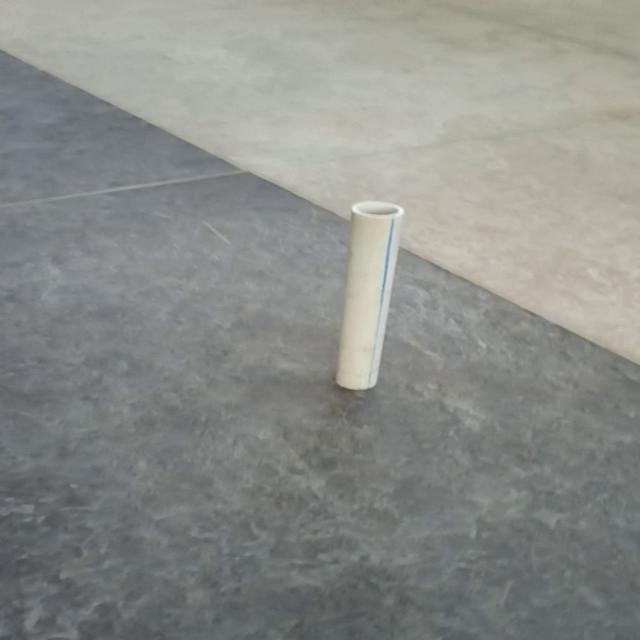Cube: (332, 200, 406, 390)
